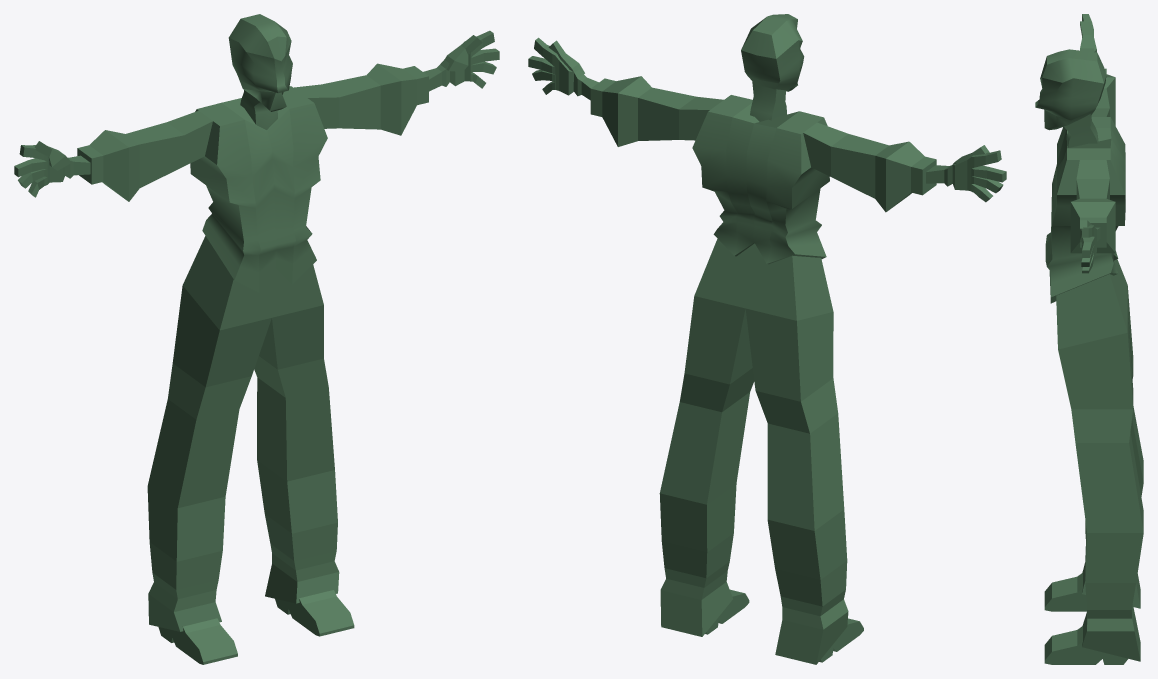
Rendered from Human.fbx.
3 views of the same model, side by side, from view 1: azimuth 30°, elevation 25°; view 2: azimuth 150°, elevation 25°; view 3: azimuth 270°, elevation 25° (orthographic). The views are drawn at different scales.
Parts seen in each view (by area): view 1: Legs, Torso, Arm_R, Arm_L, Head, Foot_L, Foot_R, Neck; view 2: Legs, Torso, Arm_R, Arm_L, Head, Neck; view 3: Legs, Torso, Head, Arm_L, Foot_L, Foot_R, Neck, Arm_R, pCube6, pCube3.
Part boxes in pixels (bbox=[...]): Legs: bbox=[147, 236, 339, 631]; Torso: bbox=[190, 86, 327, 292]; Arm_R: bbox=[47, 110, 212, 201]; Arm_L: bbox=[294, 42, 470, 135]; Head: bbox=[228, 14, 292, 111]; Foot_L: bbox=[275, 590, 354, 636]; Foot_R: bbox=[158, 618, 237, 664]; Neck: bbox=[240, 90, 277, 130]; Legs: bbox=[659, 238, 848, 664]; Torso: bbox=[692, 95, 829, 264]; Arm_R: bbox=[803, 122, 971, 212]; Arm_L: bbox=[555, 54, 723, 146]; Head: bbox=[741, 14, 804, 91]; Neck: bbox=[750, 81, 786, 121]; Legs: bbox=[1056, 259, 1143, 661]; Torso: bbox=[1045, 117, 1125, 303]; Head: bbox=[1035, 49, 1106, 130]; Arm_L: bbox=[1070, 160, 1115, 255]; Foot_L: bbox=[1044, 626, 1127, 664]; Foot_R: bbox=[1044, 572, 1086, 611]; Neck: bbox=[1064, 114, 1098, 148]; Arm_R: bbox=[1082, 31, 1115, 125]; pCube6: bbox=[1080, 21, 1093, 52]; pCube3: bbox=[1082, 236, 1094, 257].
Size of the model in its own units: 476 by 580 by 98.99.
